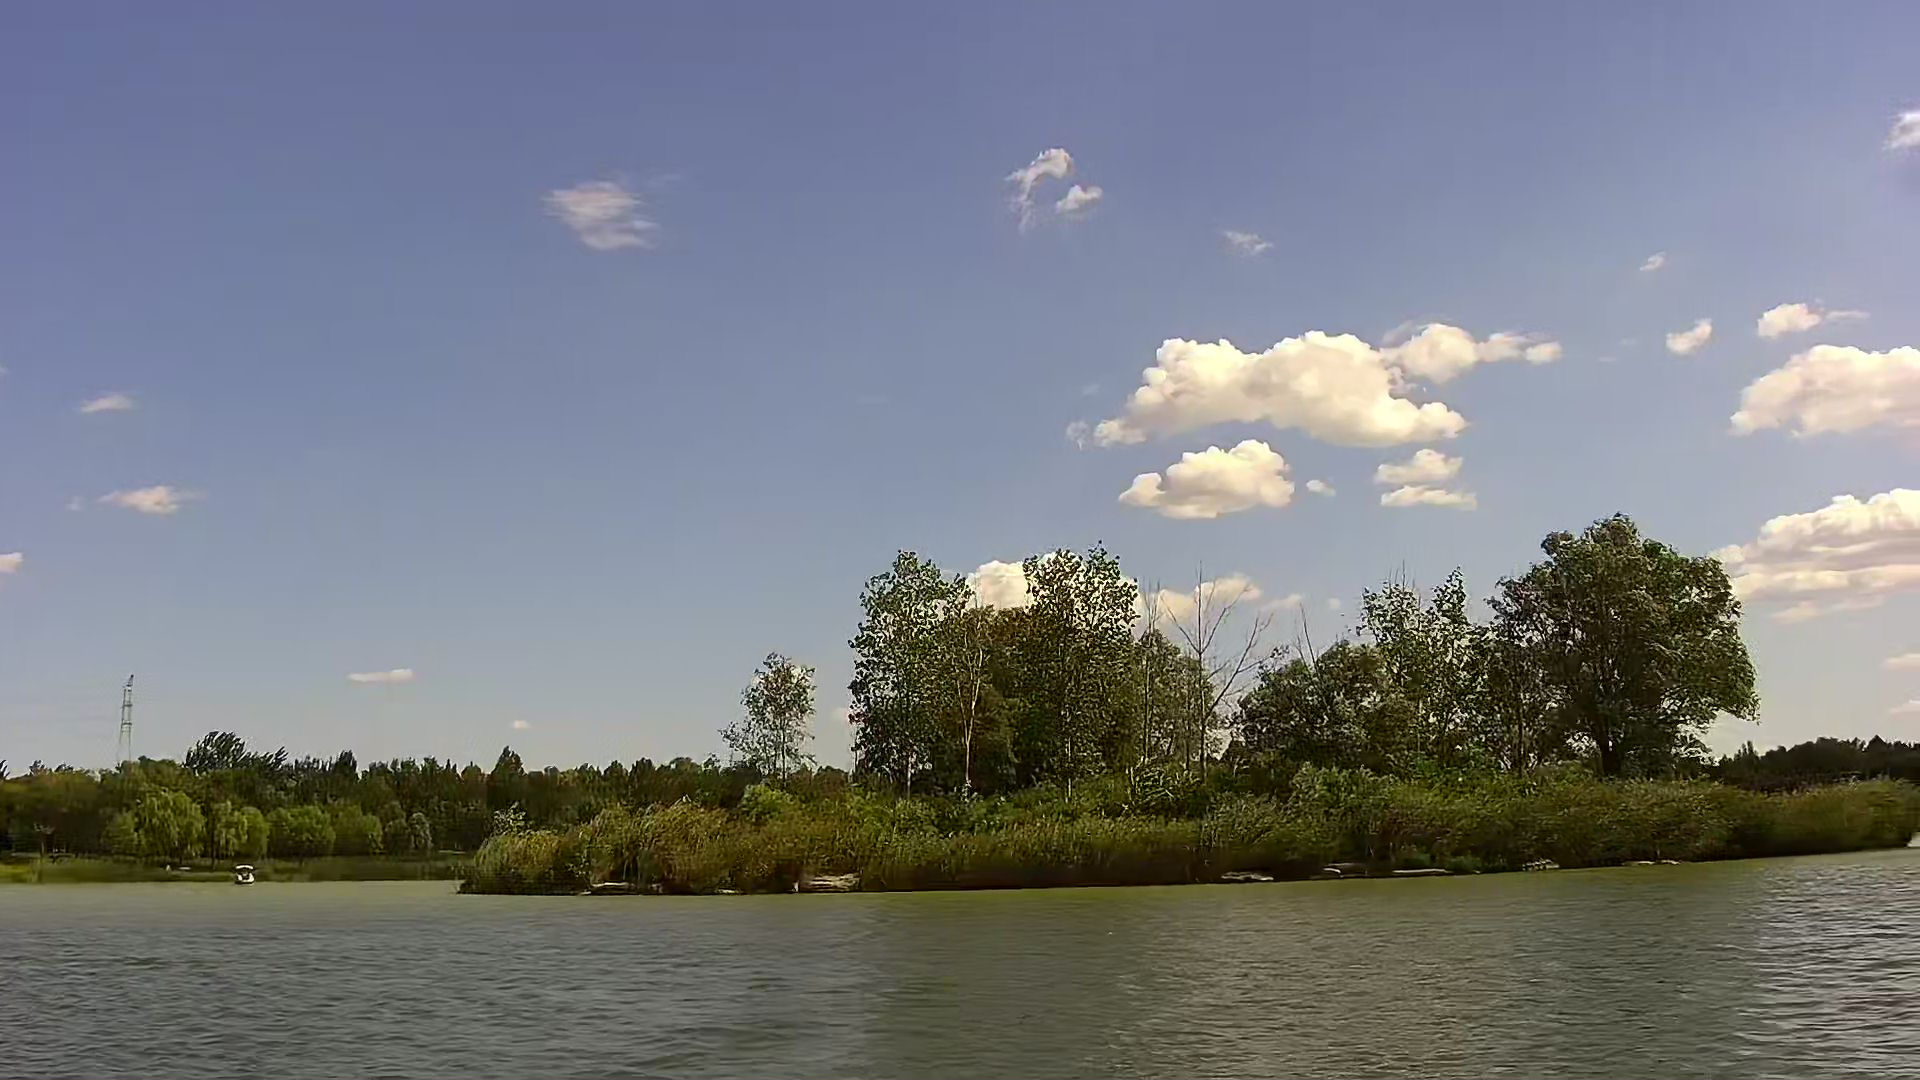rock: (800, 866, 858, 893)
